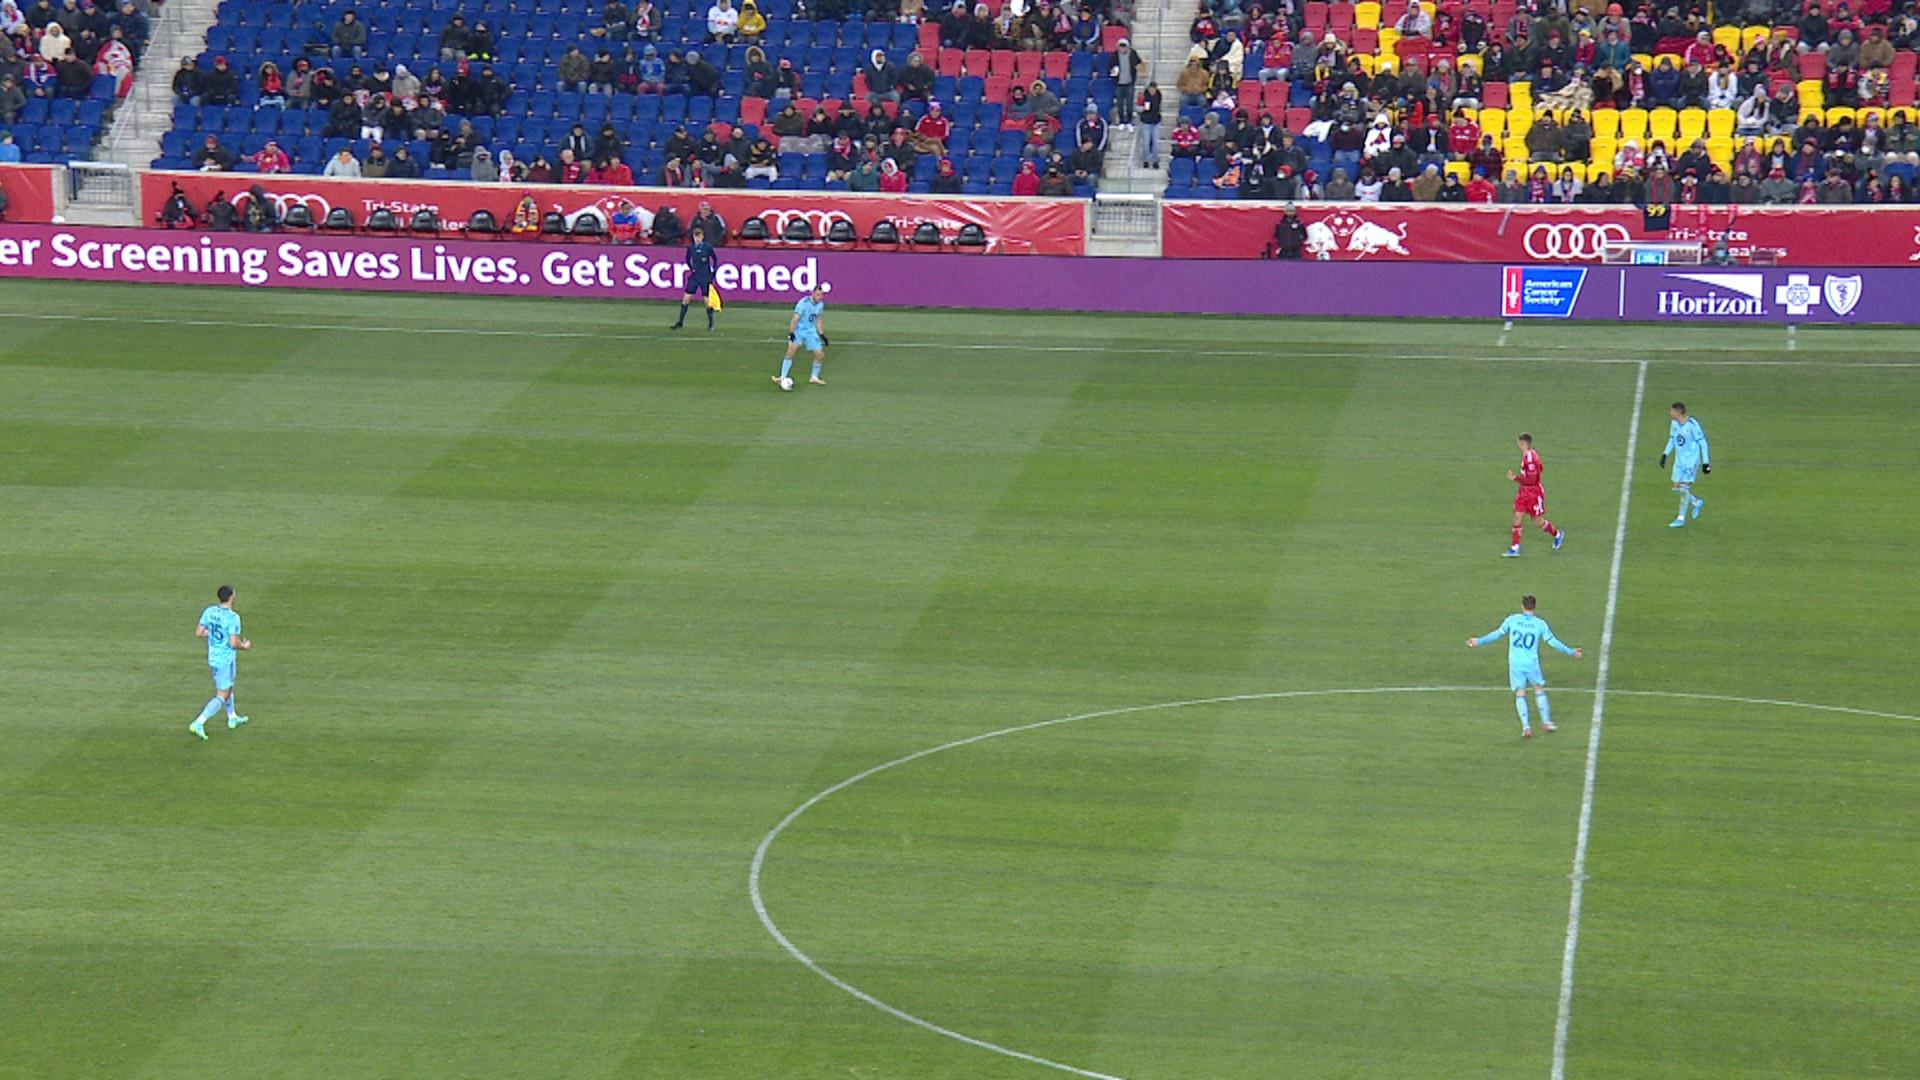football: (782, 378, 794, 390)
